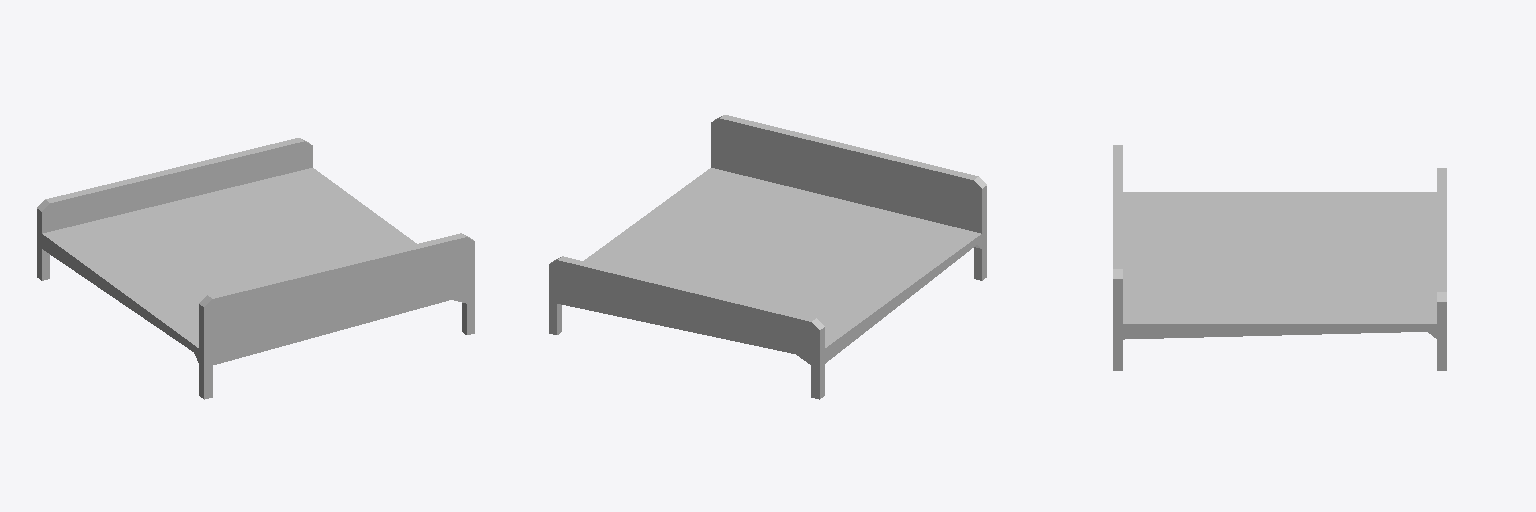
Rendered from bed02.obj.
3 views of the same model, side by side, from view 1: azimuth 30°, elevation 25°; view 2: azimuth 150°, elevation 25°; view 3: azimuth 270°, elevation 25° (orthographic).
Visible parts, largest first — view 1: Cube_Cube.001; view 2: Cube_Cube.001; view 3: Cube_Cube.001.
Boxes of the visible parts, <box> form: Cube_Cube.001: <box>37,138,474,399</box>; Cube_Cube.001: <box>549,115,986,399</box>; Cube_Cube.001: <box>1113,145,1446,370</box>.
Size of the model in its own units: 2 by 0.695 by 2.14.